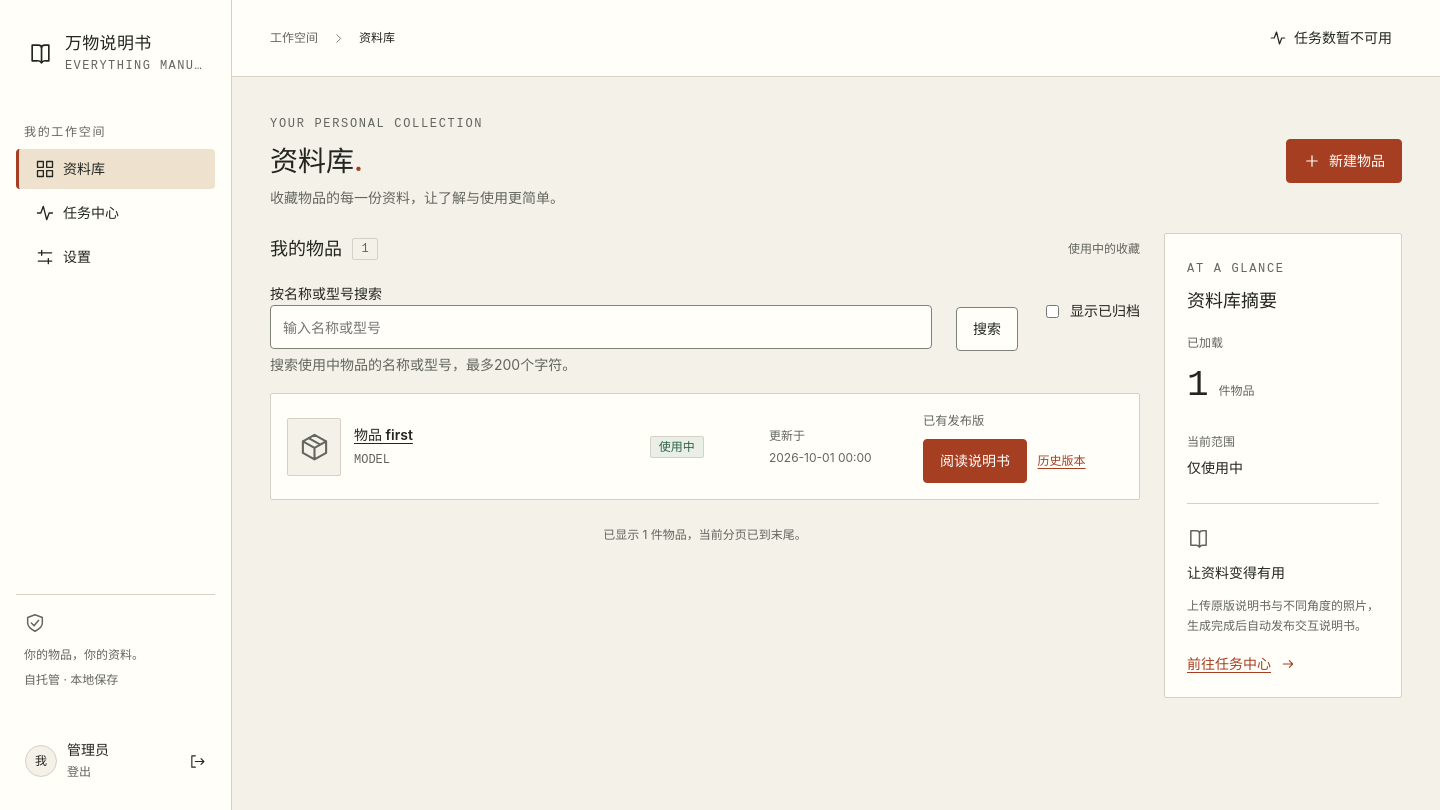
PC05A server search and retained results › keeps known results through loading and failure; a late old response cannot replace the applied query
Expected: the link "物品 first" is shown, [354, 426, 413, 443]
Type "slow" into the search field labelled "按名称或型号搜索" at (601, 327), box [270, 305, 932, 349]
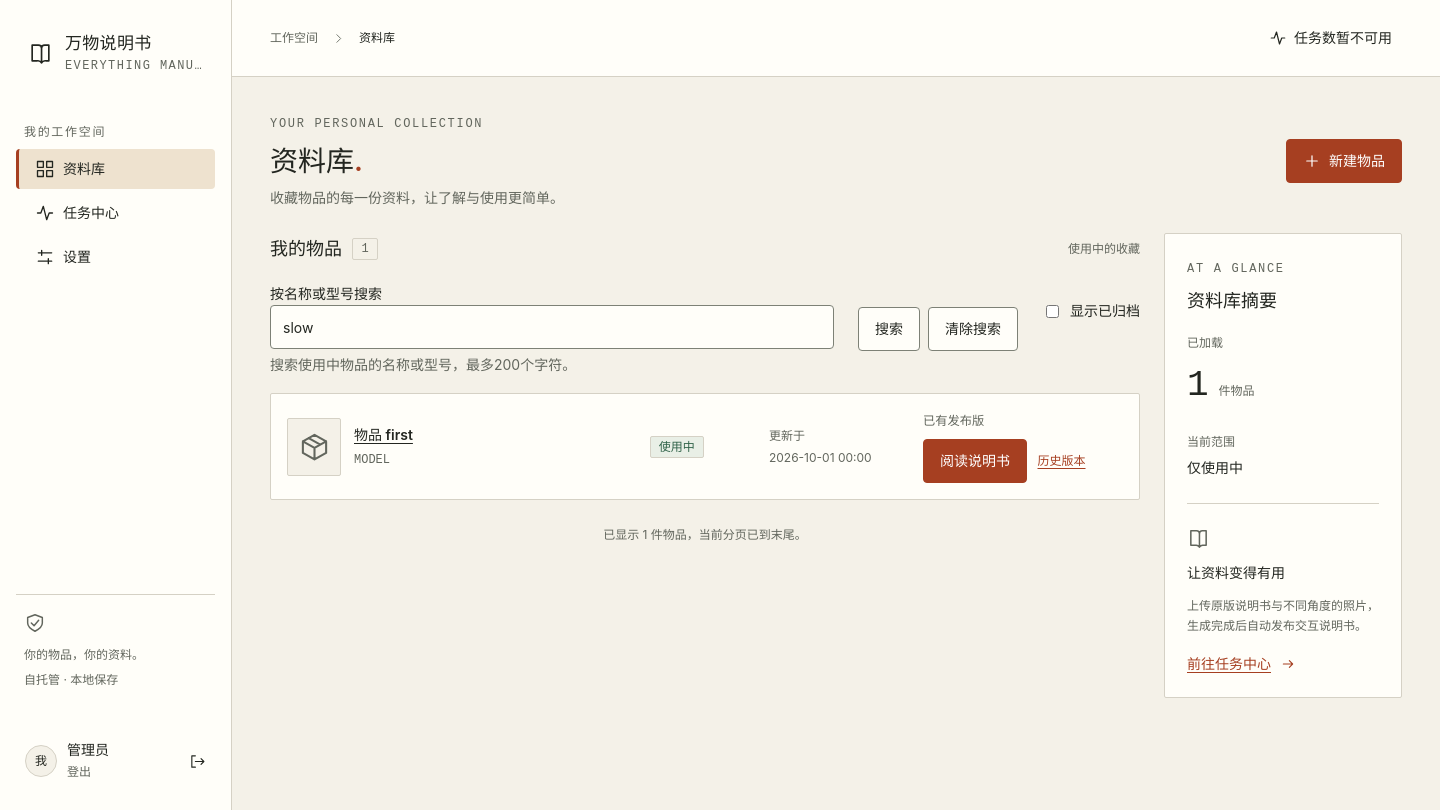
Submit the form, box [270, 283, 1140, 374]
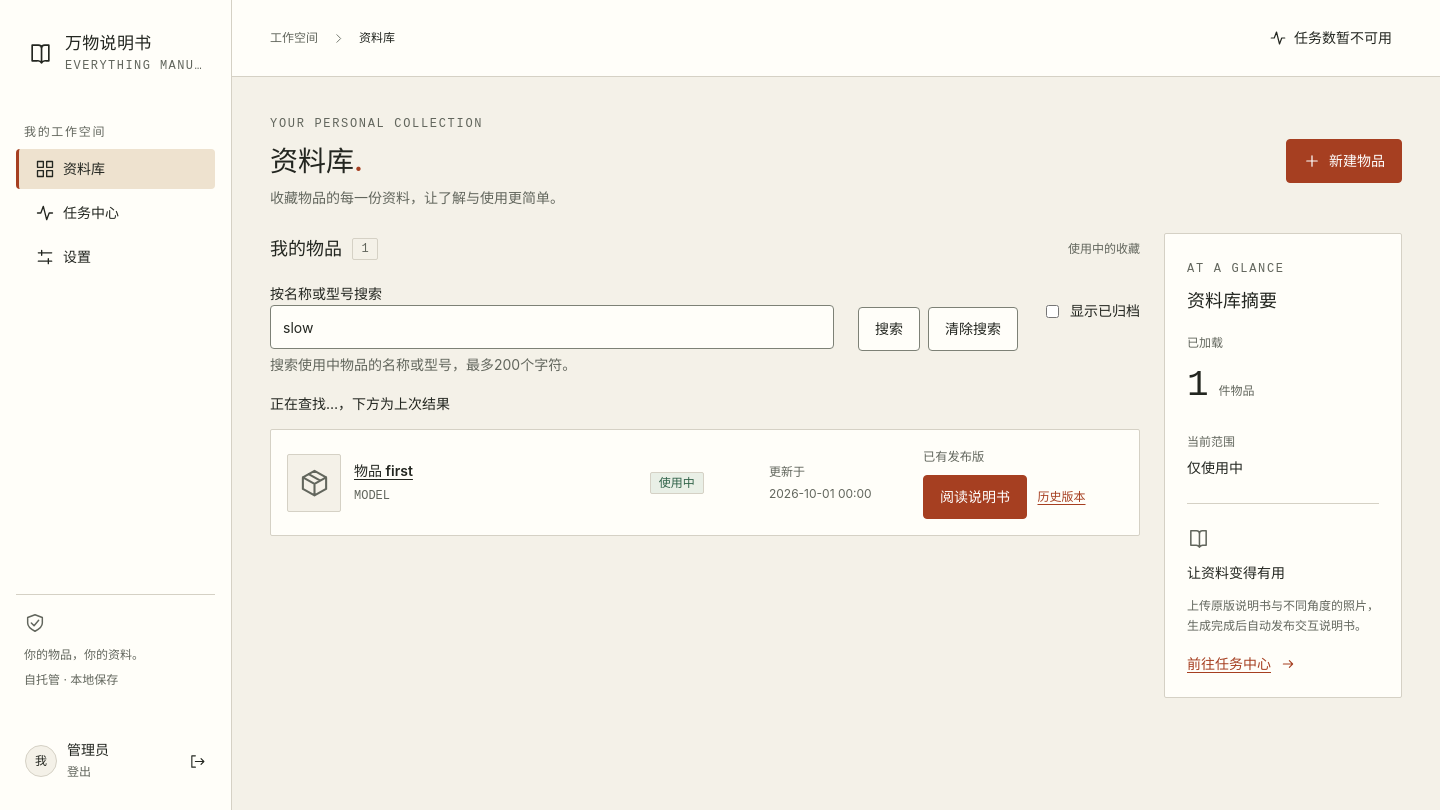
Expected: the link "物品 first" is shown, [354, 462, 413, 479]
Now the text "正在查找…，下方为上次结果" is shown, box [270, 395, 450, 412]
Replace the text in the search field labelled "按名称或型号搜索" with "new" at (552, 327), box [270, 305, 834, 349]
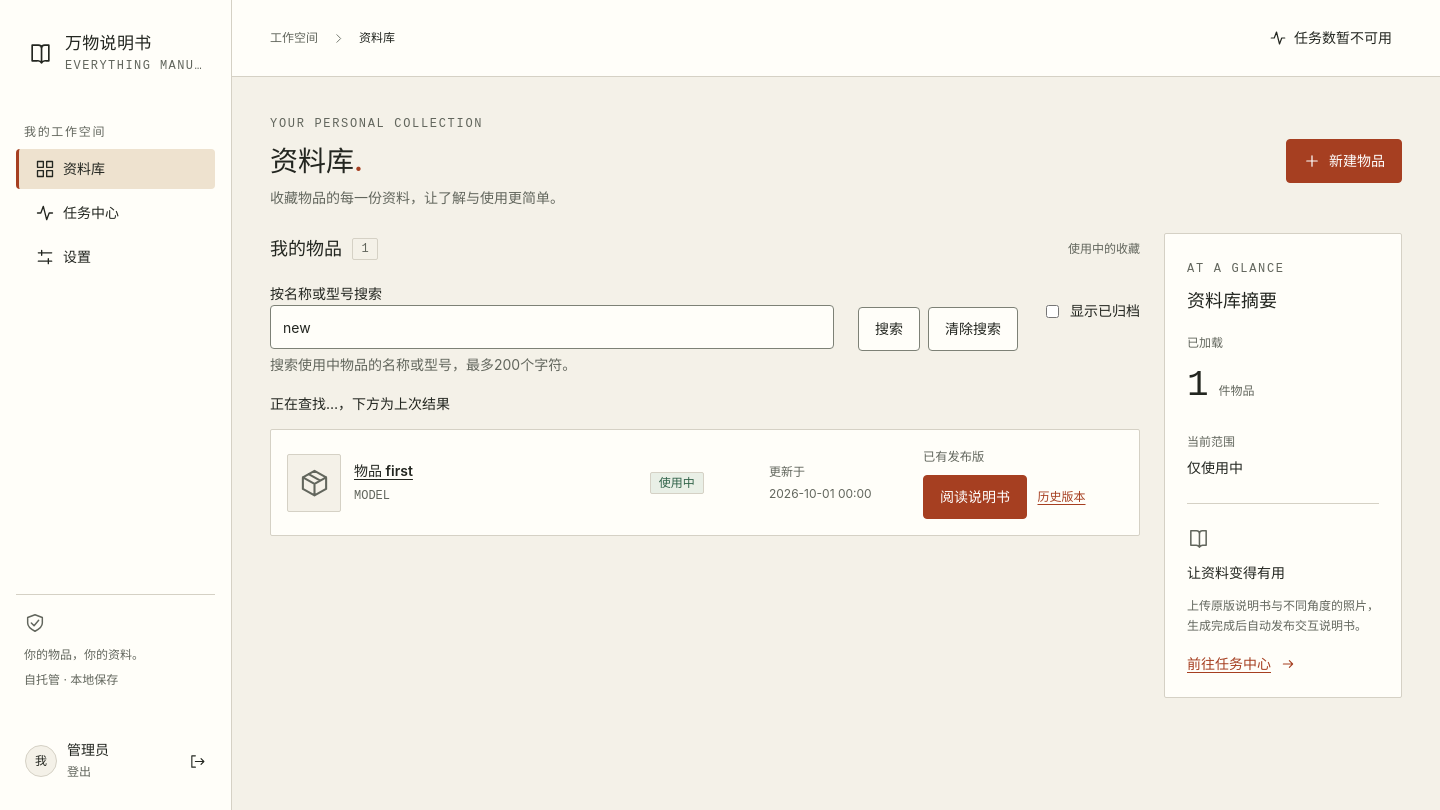
Submit the form, box [270, 283, 1140, 374]
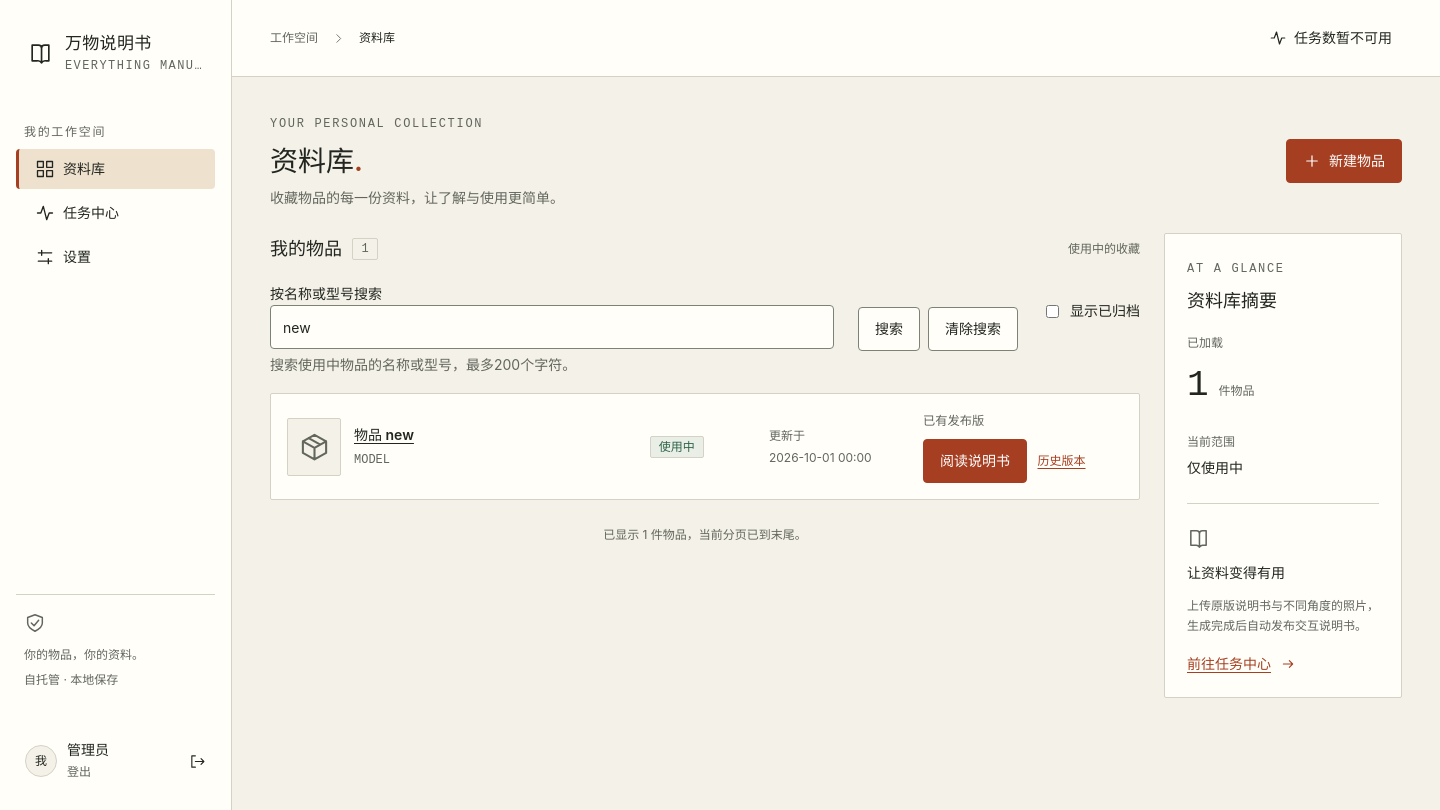
Now the link "物品 new" is shown, box [354, 426, 414, 443]
Replace the text in the search field labelled "按名称或型号搜索" with "bad" at (552, 327), box [270, 305, 834, 349]
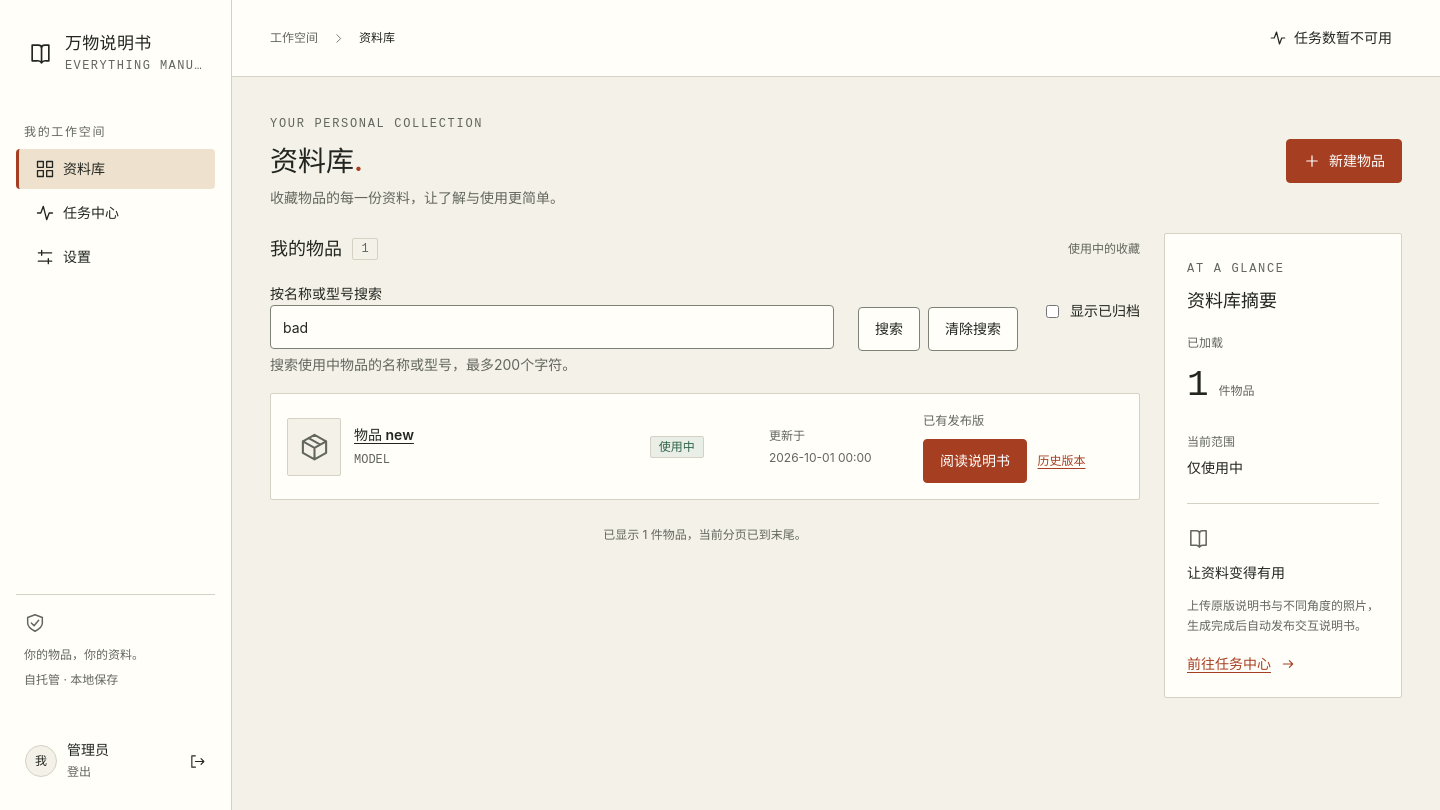
Submit the form, box [270, 283, 1140, 374]
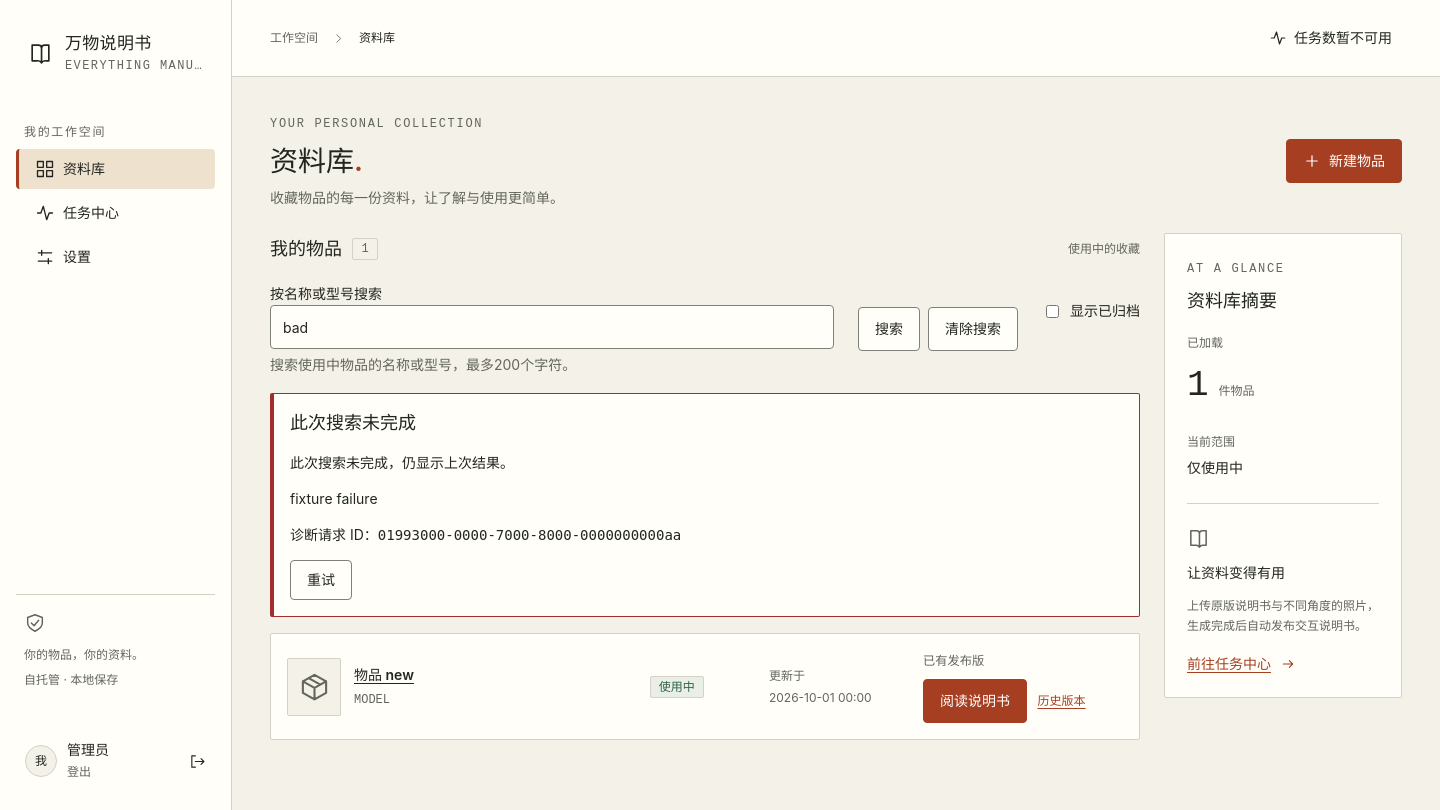
Now the link "物品 new" is shown, box [354, 666, 414, 683]
Now the message shows "仍显示上次结果", box [290, 454, 514, 471]
